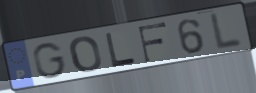6: (176, 18, 207, 55)
F: (137, 21, 169, 64)
G: (31, 41, 68, 80)
L: (209, 11, 245, 53), (103, 31, 138, 68)
O: (68, 35, 104, 74)
